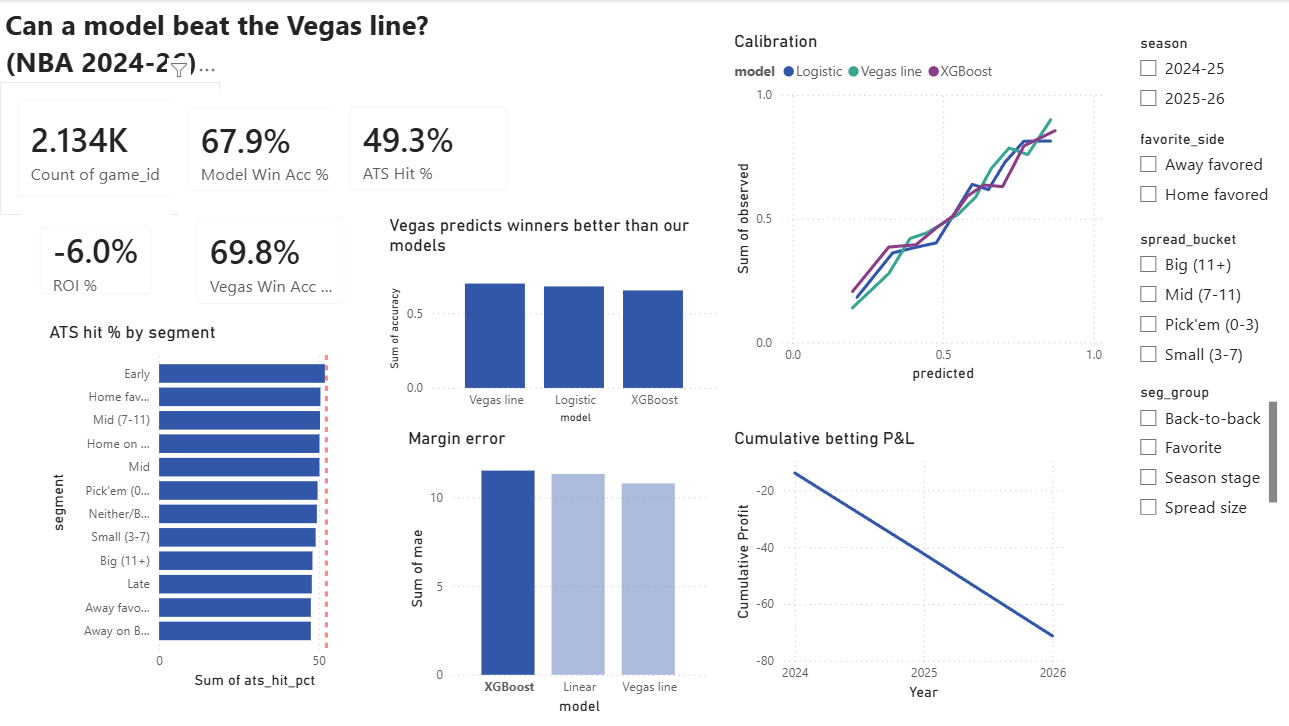

What the dashboard file says about the page in this screenshot:
{"tool":"powerbi","page":{"name":"Page 1","canvas":[1280,720],"ordinal":0},"visuals":[{"type":"textbox","box":[0,0,460.1,149.8],"z":2},{"type":"cardVisual","fields":{"Data":["CountNonNull(games.game_id)"]},"box":[0,79.8,214,129.4],"z":3},{"type":"cardVisual","fields":{"Data":["games.Model Win Acc %"]},"box":[165.3,87.5,208.1,115.7],"z":4},{"type":"cardVisual","fields":{"Data":["games.Vegas Win Acc %"]},"box":[174.1,194.5,179,118.7],"z":5},{"type":"cardVisual","fields":{"Data":["games.ATS Hit %"]},"box":[322.9,86.6,188.7,115.7],"z":6},{"type":"cardVisual","fields":{"Data":["games.ROI %"]},"box":[21.4,203.3,144,100.2],"z":7},{"type":"clusteredColumnChart","title":"Vegas predicts winners better than our models","fields":{"Category":["win_metrics.model"],"Y":["Sum(win_metrics.accuracy)"]},"box":[373.5,209.1,329.7,207.2],"z":8},{"type":"clusteredBarChart","title":"ATS hit % by segment","fields":{"Category":["ats_segments.segment"],"Y":["Sum(ats_segments.ats_hit_pct)"]},"box":[42.8,313.2,310.3,360.9],"z":9},{"type":"lineChart","title":"Calibration","fields":{"Category":["calibration.predicted"],"Y":["Sum(calibration.observed)"],"Series":["calibration.model"]},"box":[709.1,30.2,369.6,346.3],"z":10},{"type":"lineChart","title":"Cumulative betting P&L","fields":{"Category":["games.game_date.Variation.Date Hierarchy.Year","games.game_date.Variation.Date Hierarchy.Quarter","games.game_date.Variation.Date Hierarchy.Month","games.game_date.Variation.Date Hierarchy.Day"],"Y":["ats_segments.Cumulative Profit"]},"box":[709.1,416.3,332.6,269.4],"z":11},{"type":"clusteredColumnChart","title":"Margin error","fields":{"Category":["margin_mae.model"],"Y":["Sum(margin_mae.mae)"]},"box":[392,416.3,299.6,283],"z":12},{"type":"slicer","fields":{"Values":["games.season"]},"box":[1096.2,28.2,138.1,93.4],"z":13},{"type":"slicer","fields":{"Values":["games.favorite_side"]},"box":[1096.2,121.6,167.3,97.3],"z":14},{"type":"slicer","fields":{"Values":["games.spread_bucket"]},"box":[1096.2,218.8,171.2,146.9],"z":15},{"type":"slicer","fields":{"Values":["ats_segments.seg_group"]},"box":[1096.2,367.7,150.8,138.1],"z":16}]}

Visuals, with their boxes in screenshot pixels (x1, y1, x2, y2), scaled from the page's 1280x720 canvas onto the 1289x726 screenshot:
textbox: 0/0/463/151
cardVisual - CountNonNull(games.game_id): 0/80/216/211
cardVisual - games.Model Win Acc %: 166/88/376/205
cardVisual - games.Vegas Win Acc %: 175/196/356/316
cardVisual - games.ATS Hit %: 325/87/515/204
cardVisual - games.ROI %: 22/205/167/306
"Vegas predicts winners better than our models" clusteredColumnChart: 376/211/708/420
"ATS hit % by segment" clusteredBarChart: 43/316/356/680
"Calibration" lineChart: 714/30/1086/380
"Cumulative betting P&L" lineChart: 714/420/1049/691
"Margin error" clusteredColumnChart: 395/420/696/705
slicer - games.season: 1104/28/1243/123
slicer - games.favorite_side: 1104/123/1272/221
slicer - games.spread_bucket: 1104/221/1276/369
slicer - ats_segments.seg_group: 1104/371/1256/510
